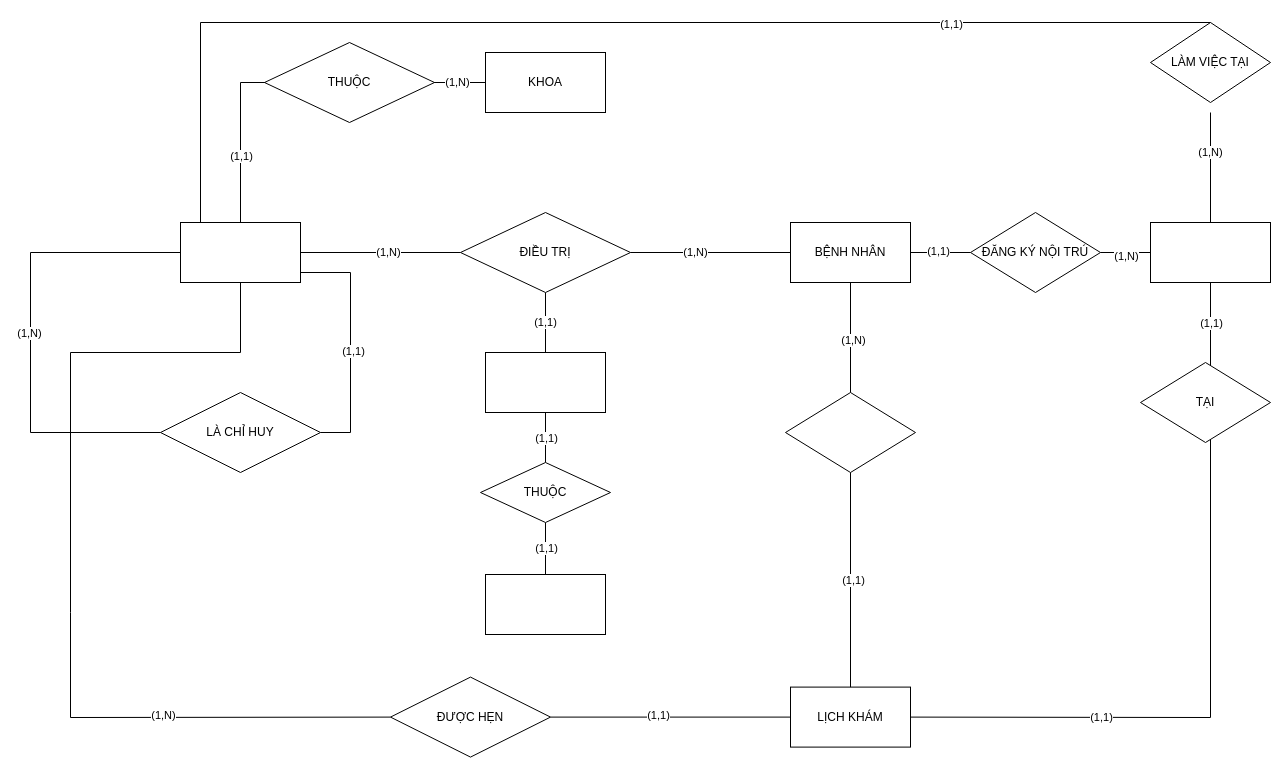
Some shapes in this 1288 by 775 pixel diagram are drawn without their labels. The shapes that lost their labels are listed below. From the top down, each one's box as (x1, y1, x2, y2) in pixels, then its label:
(180, 222, 300, 282): Y SĨ
(1150, 222, 1270, 282): PHÒNG
(484, 352, 606, 412): BỆNH ÁN
(784, 392, 916, 472): ĐĂNG KÝ
(484, 574, 606, 634): ĐƠN THUỐC
